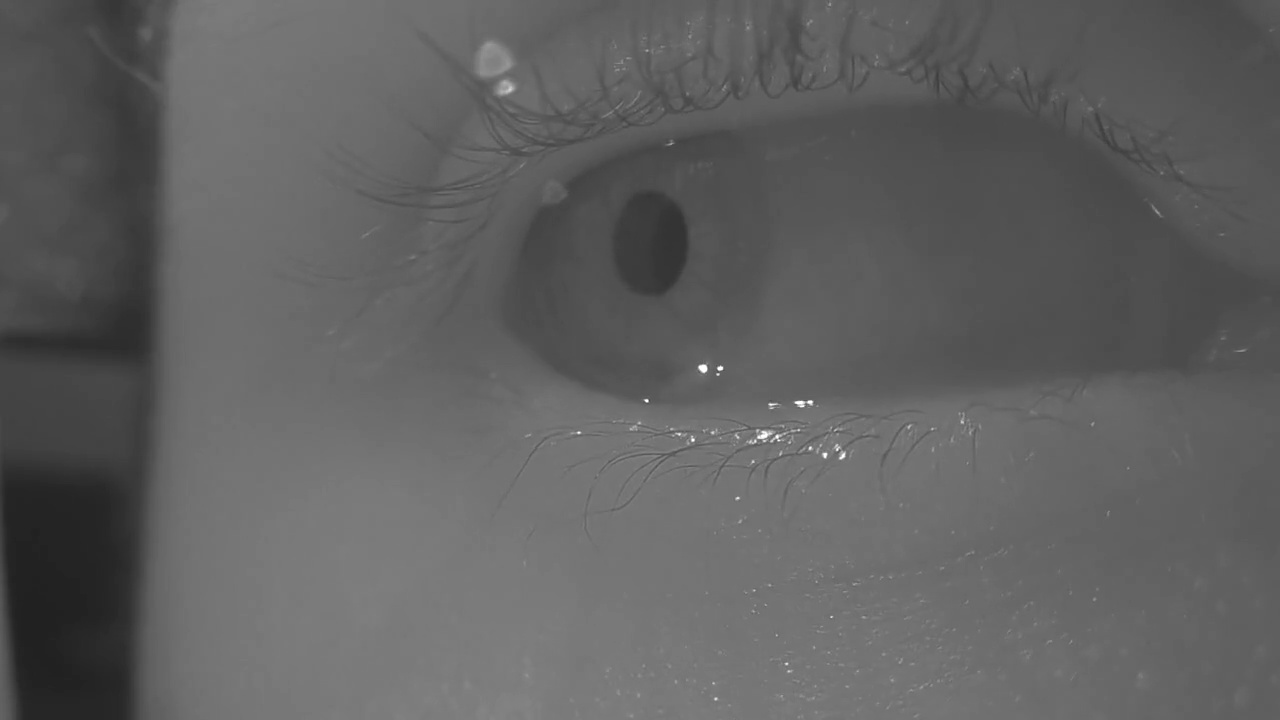pupil: (611, 192, 686, 295)
